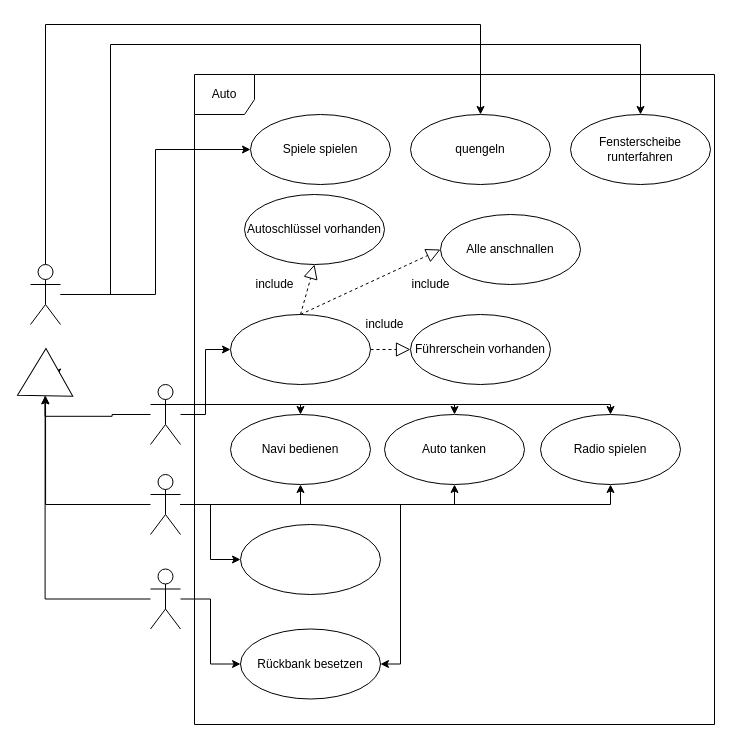
Some shapes in this 733 by 742 pixel diagram are drawn without their labels. Here are the shapes that lost their labels. From the top down, the centre of each, then its label:
At point (45, 294): "Person".
At point (300, 349): "Auto fahren".
At point (165, 414): "Fahrer".
At point (165, 504): "Beifahrer".
At point (310, 559): "Beifahrersitz besetzen".
At point (165, 598): "KInd".
